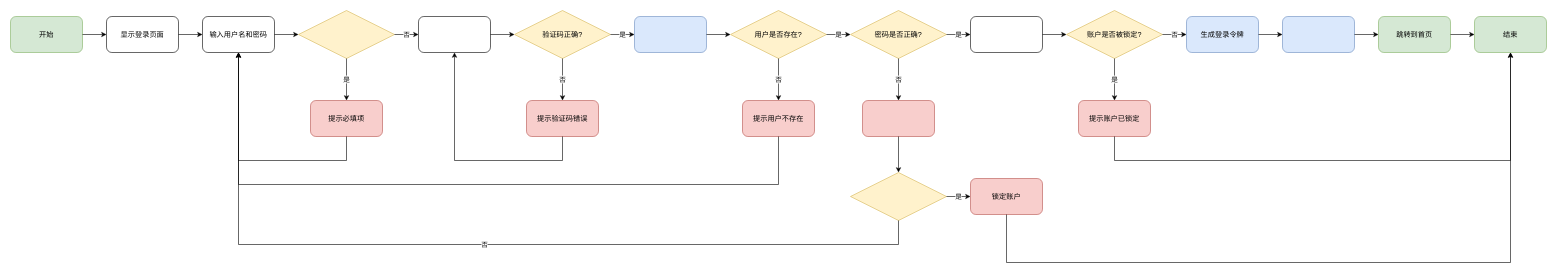
Some shapes in this 1557 by 278 pixel diagram are drawn without their labels. The shapes that lost their labels are listed below. From the top down, each one's centre as x and y in pixels, then its label:
point (346, 34): 输入是否为空?
point (454, 34): 验证码校验
point (670, 34): 查询数据库
point (1006, 34): 检查账户状态
point (1318, 34): 记录登录日志
point (898, 118): 记录登录次数
point (898, 196): 超过3次?
